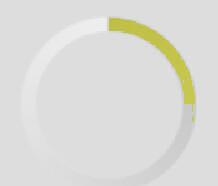ProgressBar: (1, 1, 217, 185)
